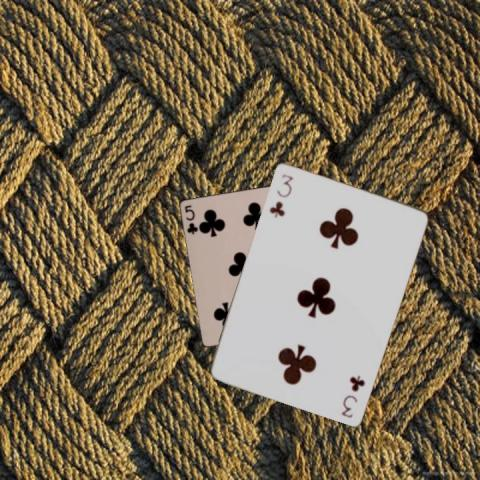3c: (338, 372, 367, 419), (266, 170, 294, 218)
5c: (182, 202, 199, 236)
